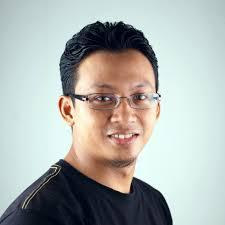sunglasses: (80, 88, 174, 112)
